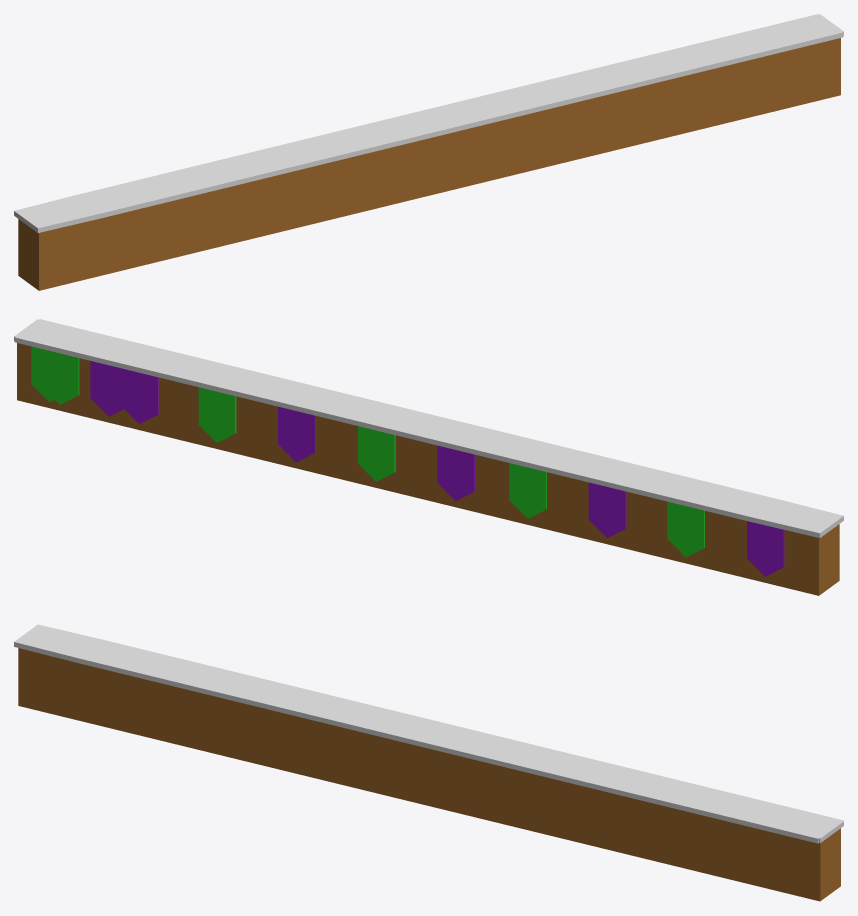
The model's file is frontcounter.fbx.
3 views of the same model, one above another, from view 1: azimuth 30°, elevation 25°; view 2: azimuth 150°, elevation 25°; view 3: azimuth 330°, elevation 25° (orthographic).
Visible parts, largest first — view 1: long_counter, short_counter; view 2: long_counter, short_counter; view 3: long_counter, short_counter.
Part boxes in pixels (x1,y1,x2,y2): long_counter: (14,14,843,290); short_counter: (717,14,843,104); long_counter: (14,319,843,595); short_counter: (14,319,161,428); long_counter: (14,624,843,901); short_counter: (696,793,843,897).
Size of the model in its own units: 1427 by 109 by 77.24.
